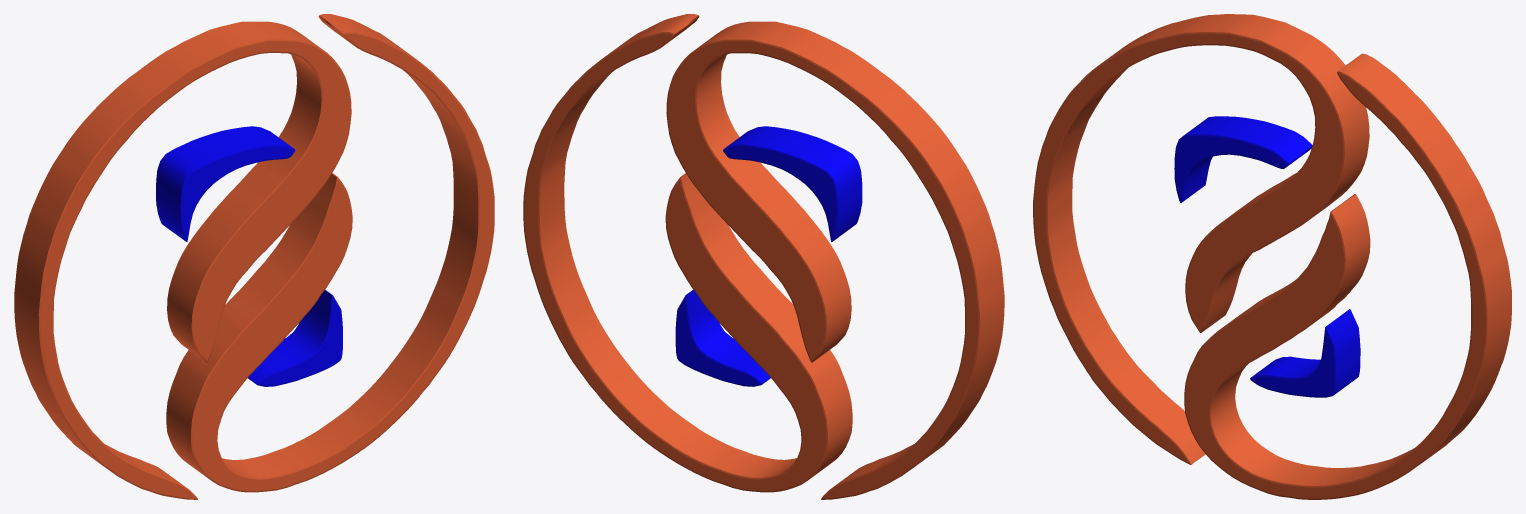
The model's file is sortic3d .glb.
The picture shows the model from 3 angles, left to right: view 1: azimuth 30°, elevation 25°; view 2: azimuth 150°, elevation 25°; view 3: azimuth 330°, elevation 25°; orthographic projection.
Parts seen in each view (by area): view 1: Plane.001; view 2: Plane.001; view 3: Plane.001.
Boxes of the visible parts, bbox=[...] form: Plane.001: bbox=[14, 14, 494, 499]; Plane.001: bbox=[523, 14, 1004, 499]; Plane.001: bbox=[1033, 14, 1511, 499].
Bounding box in the file's own units: 6.2 × 5.89 × 0.602.
